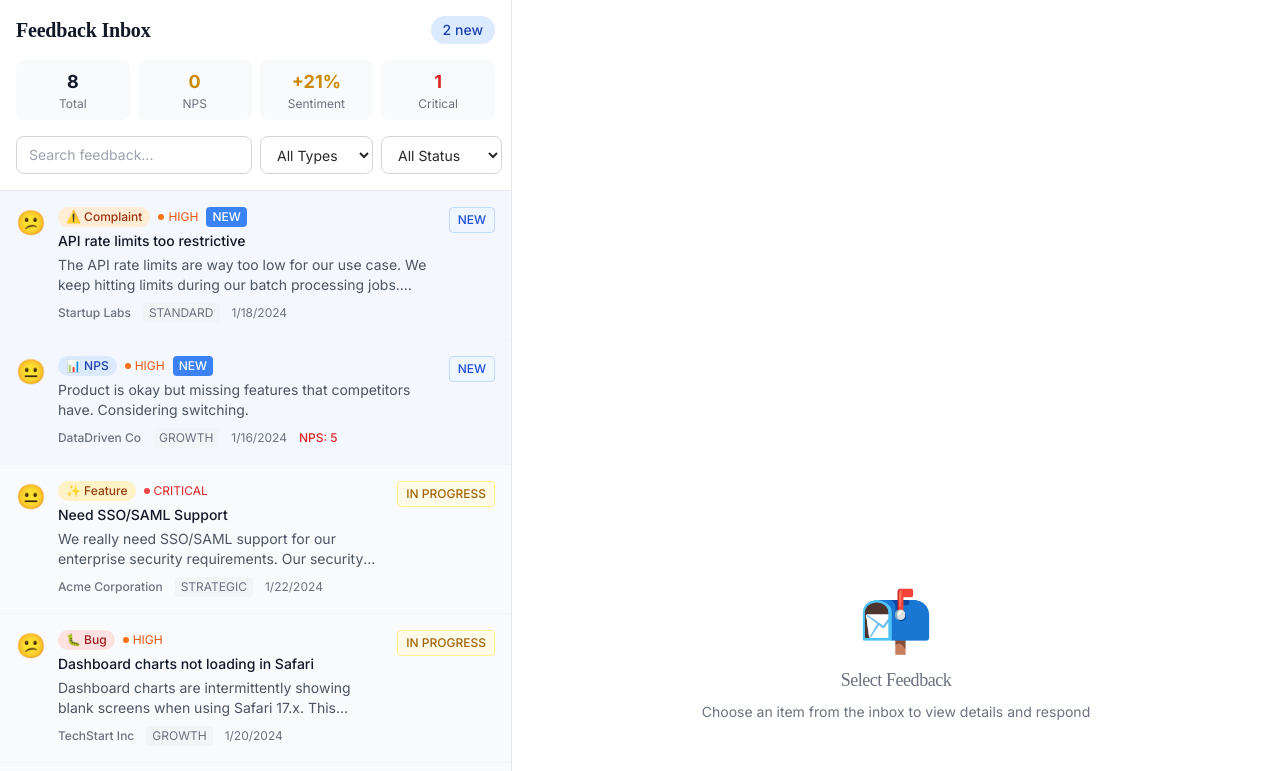
Test case: FeedbackView › shows feedback detail when clicking an item
Note: Click on a feedback item
What coordinates should you click on to do the following:
click the text "Need SSO/SAML Support"
I would click on:
 (143, 514)
Its box is [58,506,228,523].
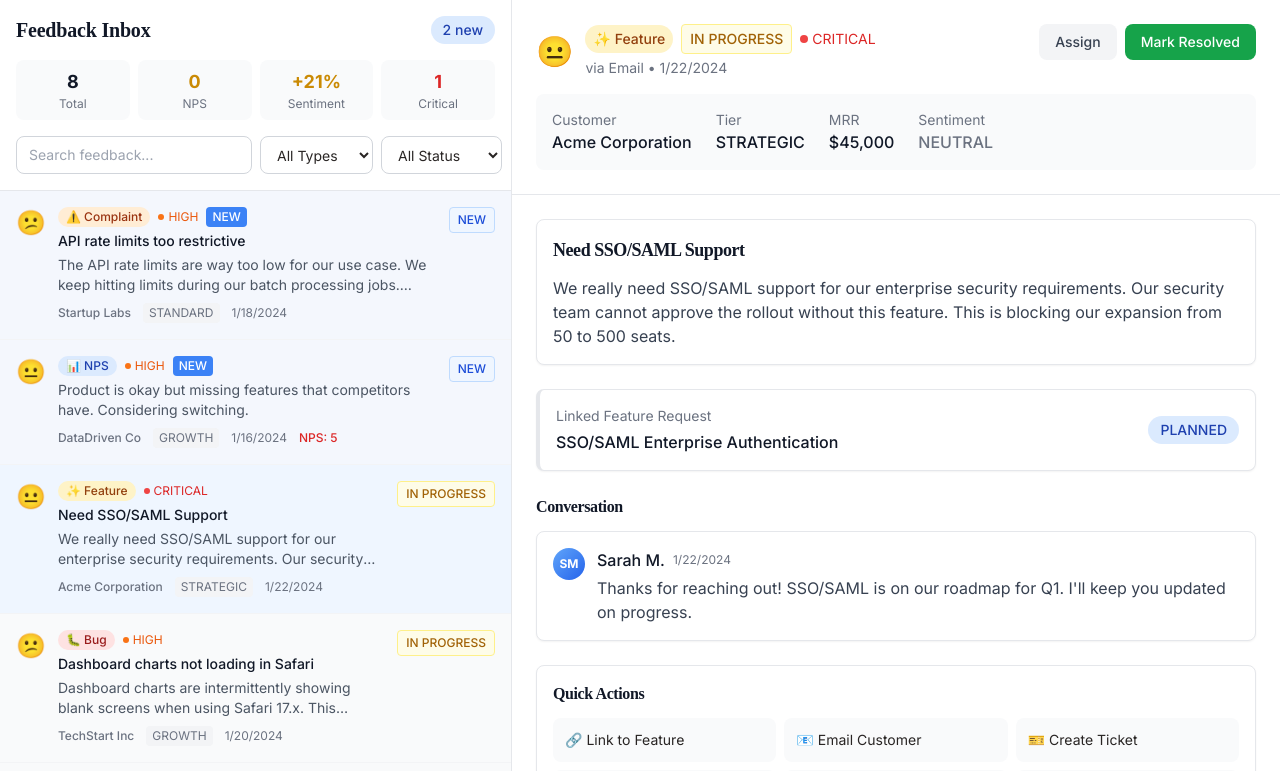
Check: the text "Customer" is shown, box [552,111,616,128]
Check: the text "Tier" is shown, box [716,111,742,128]
Check: the text "MRR" is shown, box [829,111,860,128]
